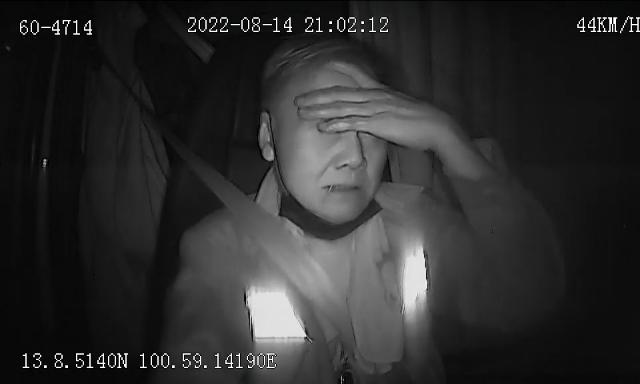Seatbelt: (197, 166, 356, 352)
